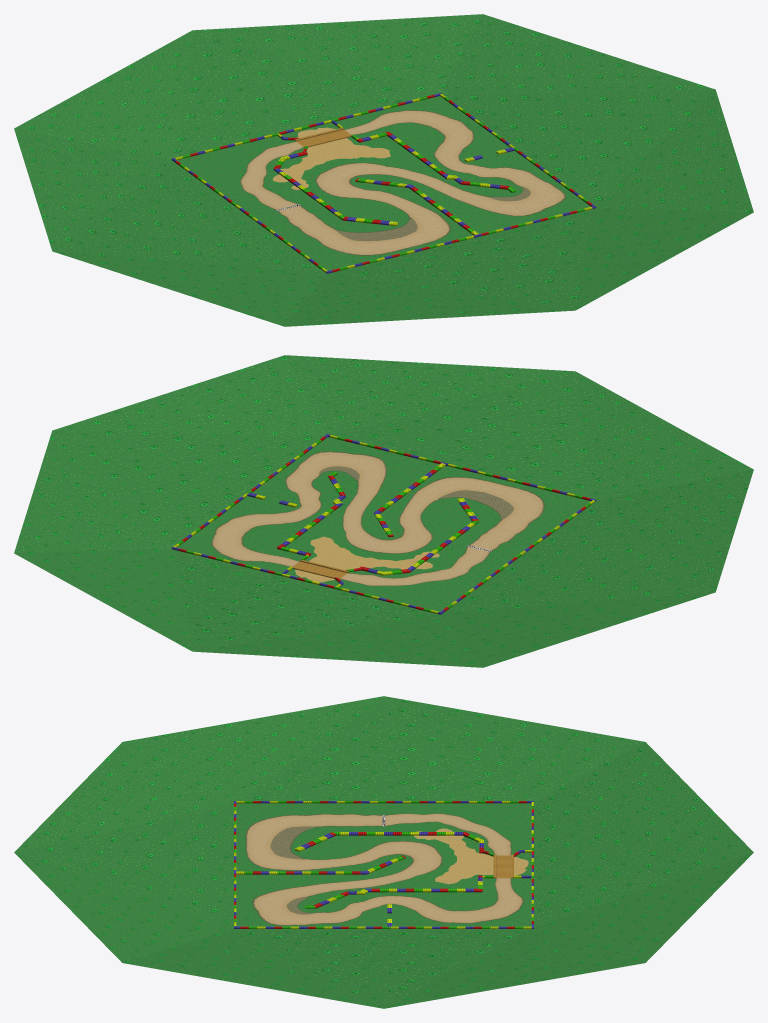
File: old_donut_sfc-old_donut_sfc.glb
3 views of the same model, one above another, from view 1: azimuth 30°, elevation 25°; view 2: azimuth 150°, elevation 25°; view 3: azimuth 270°, elevation 25° (orthographic). The views are drawn at different scales.
Parts seen in each view (by area): view 1: old_donut_sfc; view 2: old_donut_sfc; view 3: old_donut_sfc.
Boxes of the visible parts, x1,y1,x2,y2 form: old_donut_sfc: (14, 14, 753, 326); old_donut_sfc: (14, 355, 753, 667); old_donut_sfc: (14, 696, 753, 1008).
Bounding box in the file's own units: 516 × 10.3 × 516.
Materials: 8 (8 with a texture image).
